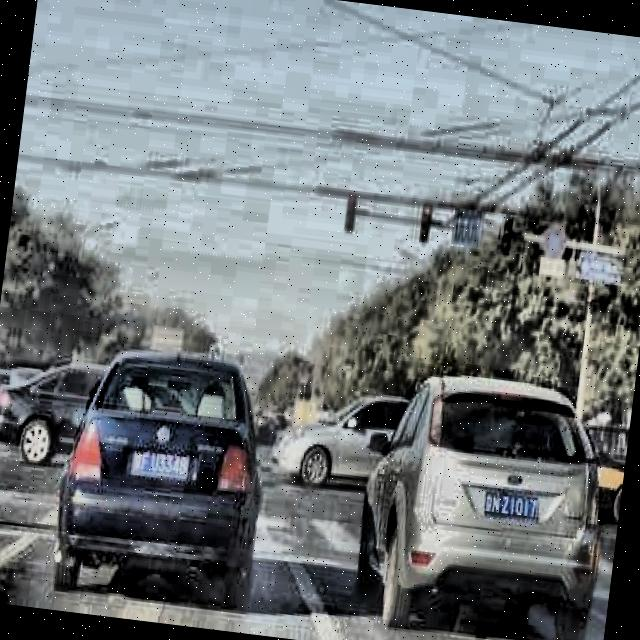license_plate: (128, 445, 194, 482), (480, 484, 541, 523)
